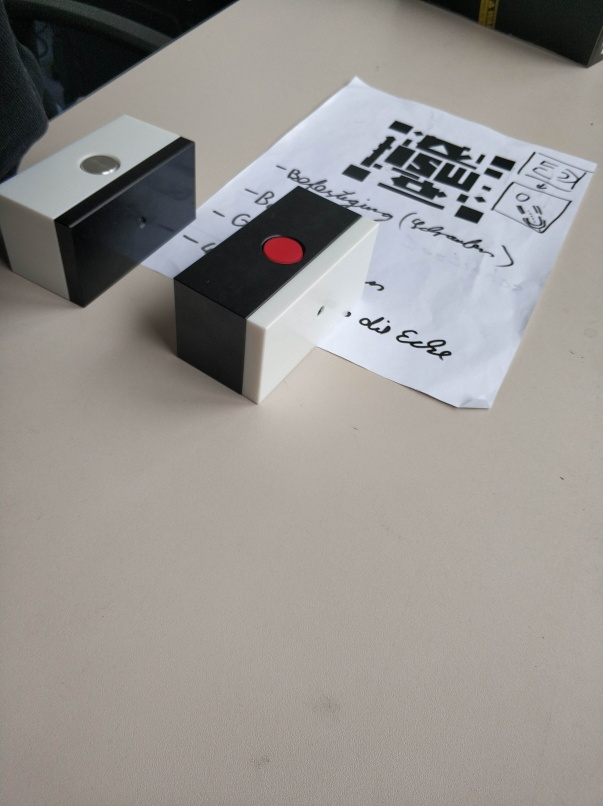black+white+silver: (1, 110, 199, 311)
white+black+red: (171, 185, 382, 408)
